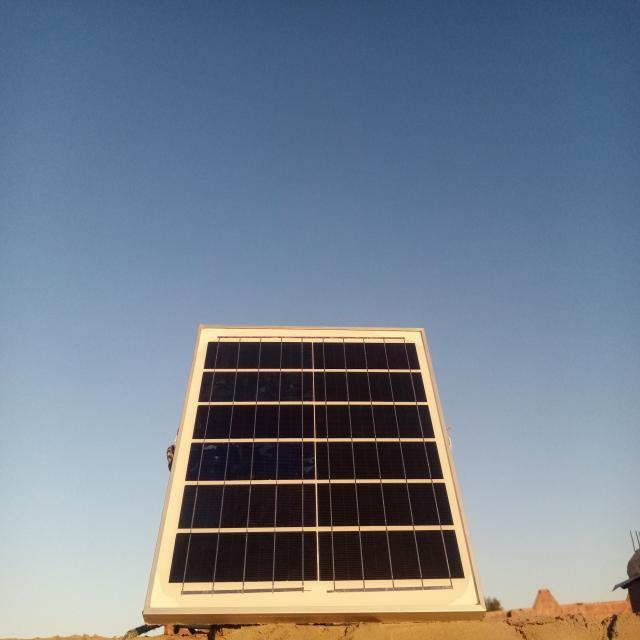no faulty: (143, 327, 485, 612)
